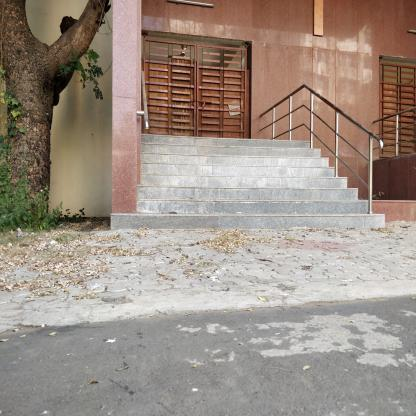stairs: (143, 148, 323, 235)
